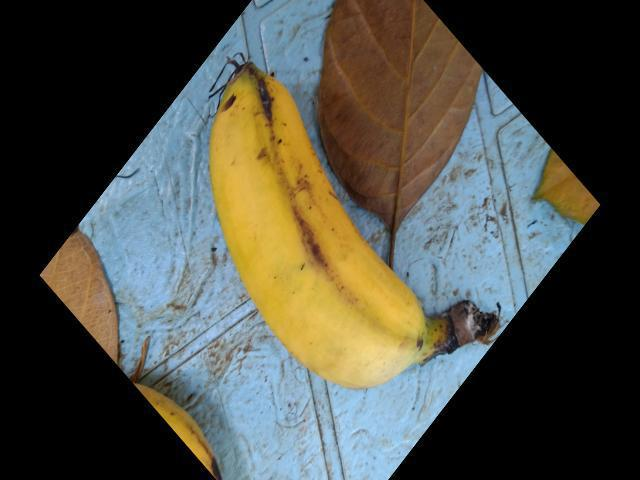ripe: (194, 56, 457, 425)
